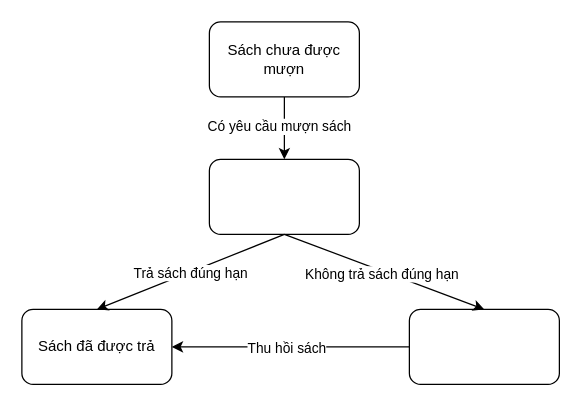
Some shapes in this 581 by 406 pixel diagram are drawn without their labels. Here are the shapes that lost their labels. From the top down, the box of each, then its label:
(208, 158, 359, 234): Sách đang cho mượn
(408, 308, 559, 384): Sách quá hạn
